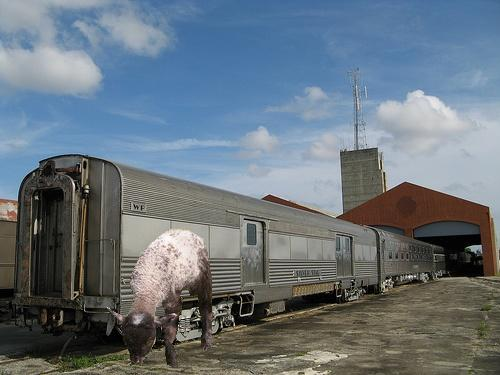tampered: (108, 230, 212, 367)
